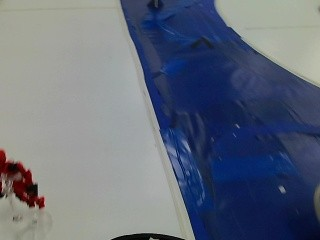pedestrian: (0, 145, 49, 210)
